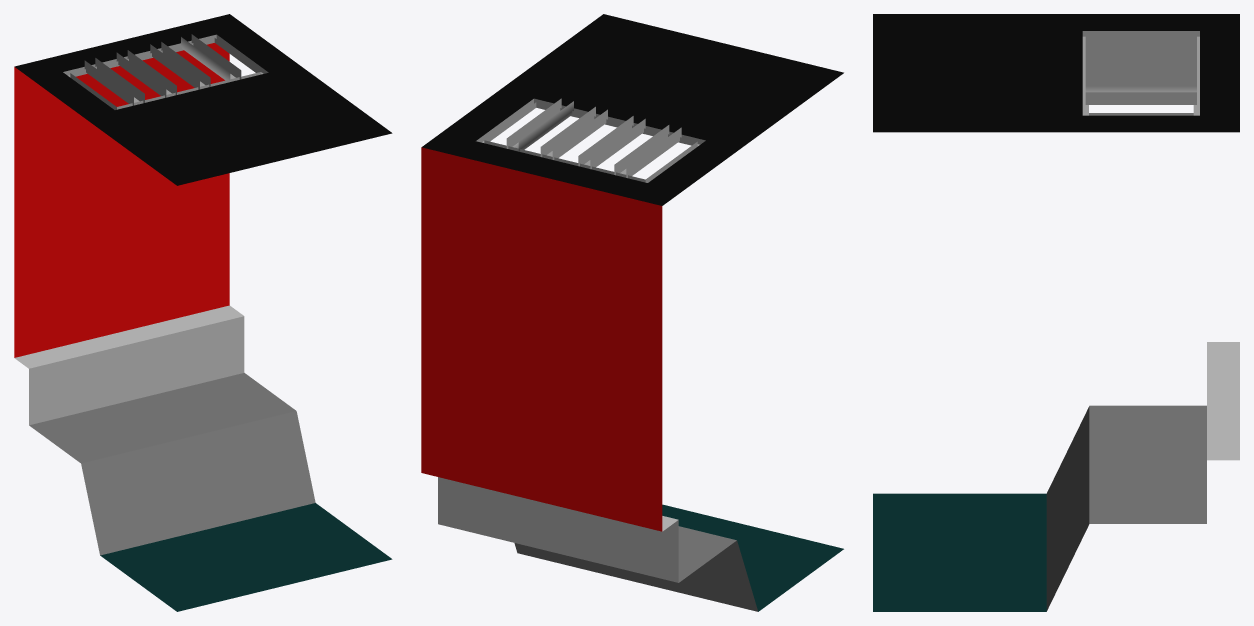
Rendered from recta_coladera.fbx.
3 renders of one model, left to right at view 1: azimuth 30°, elevation 25°; view 2: azimuth 150°, elevation 25°; view 3: azimuth 270°, elevation 25°, orthographic. The views are drawn at different scales.
Visible parts, largest first — view 1: Pieza_Recta_Coladera; view 2: Pieza_Recta_Coladera; view 3: Pieza_Recta_Coladera.
Boxes of the visible parts, bbox=[...] form: Pieza_Recta_Coladera: bbox=[14, 14, 392, 611]; Pieza_Recta_Coladera: bbox=[421, 14, 843, 611]; Pieza_Recta_Coladera: bbox=[873, 14, 1239, 611].
Size of the model in its own units: 20 by 38.47 by 26.19.
